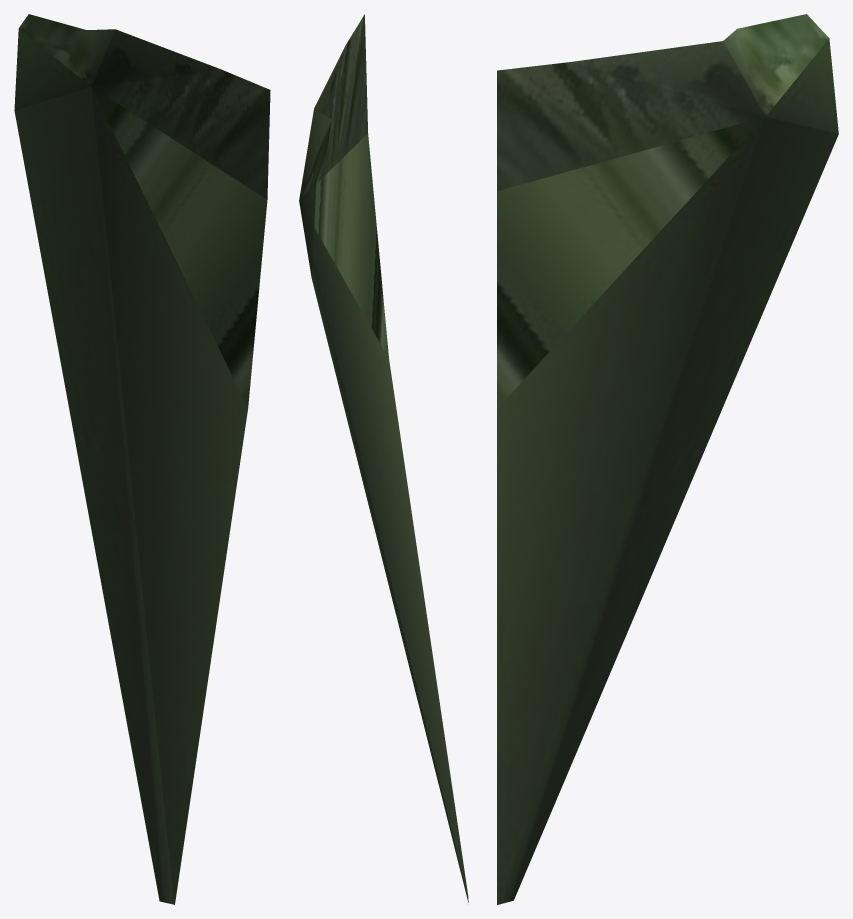
3 renders of one model, left to right at view 1: azimuth 30°, elevation 25°; view 2: azimuth 150°, elevation 25°; view 3: azimuth 270°, elevation 25°, orthographic. The views are drawn at different scales.
Size of the model in its own units: 0.4034 by 2.95 by 1.03.
1 material, 1 textured.
